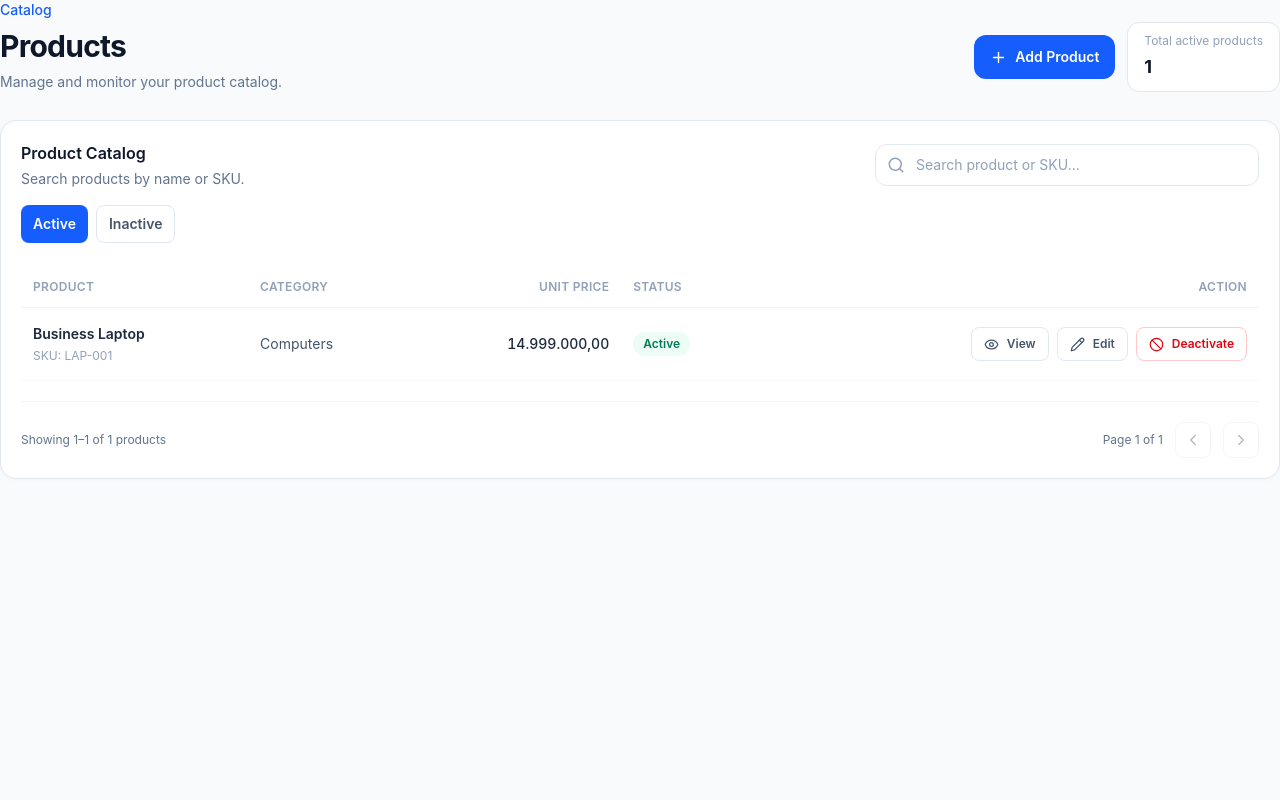
Scenario: ProductsPage › opens product details
Expected: the text "Business Laptop" is shown, left=33, top=325, right=145, bottom=342
Click the button with aria-label "View Business Laptop details" at {"x": 1010, "y": 344}, box left=971, top=327, right=1049, bottom=361
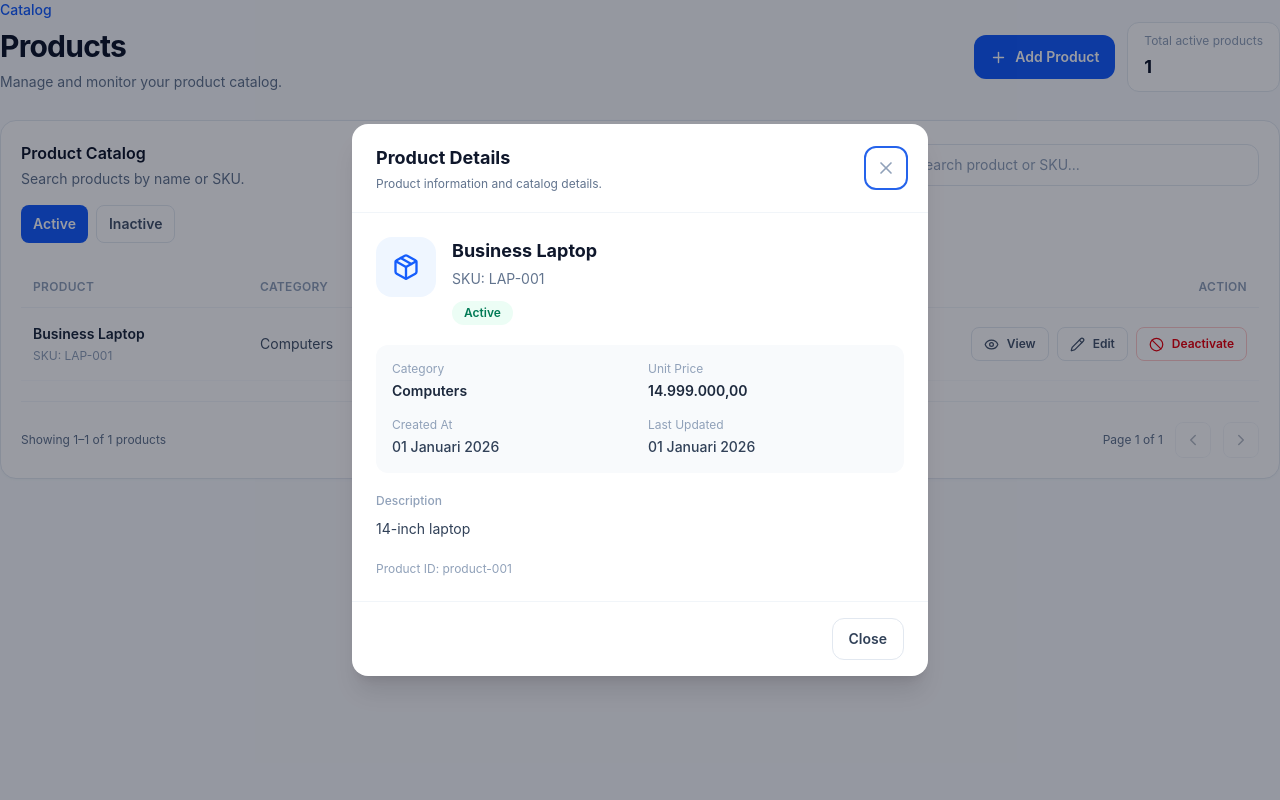
Now the dialog is shown, box left=352, top=124, right=928, bottom=676
Now the text "Product ID: product-001" is shown, box left=376, top=561, right=512, bottom=576
